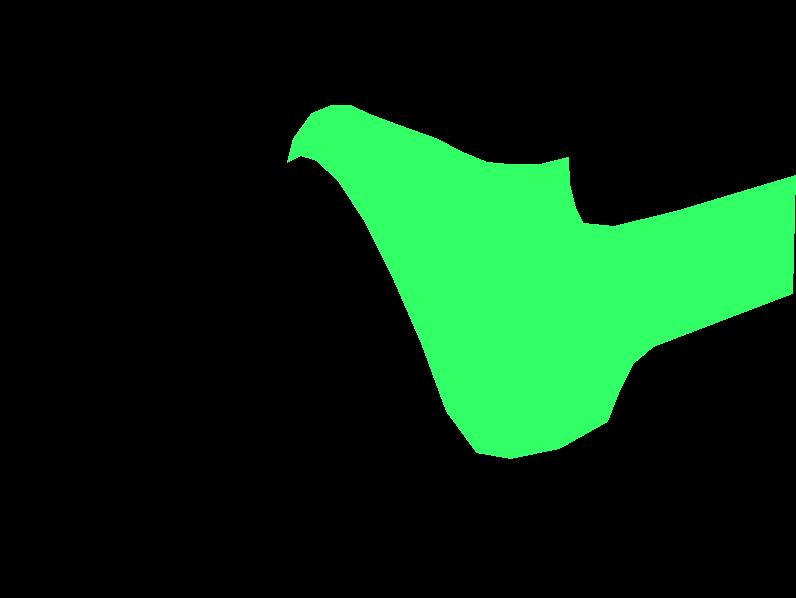Broken part: (287, 105, 795, 458)
